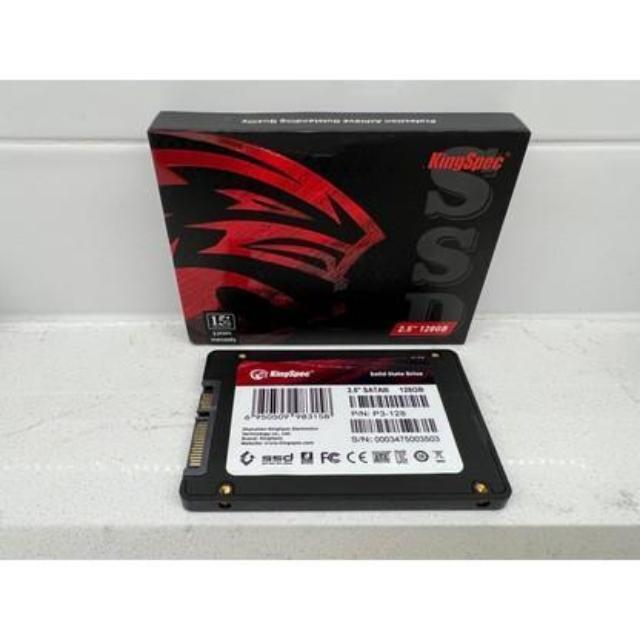DISK: (177, 346, 517, 526)
